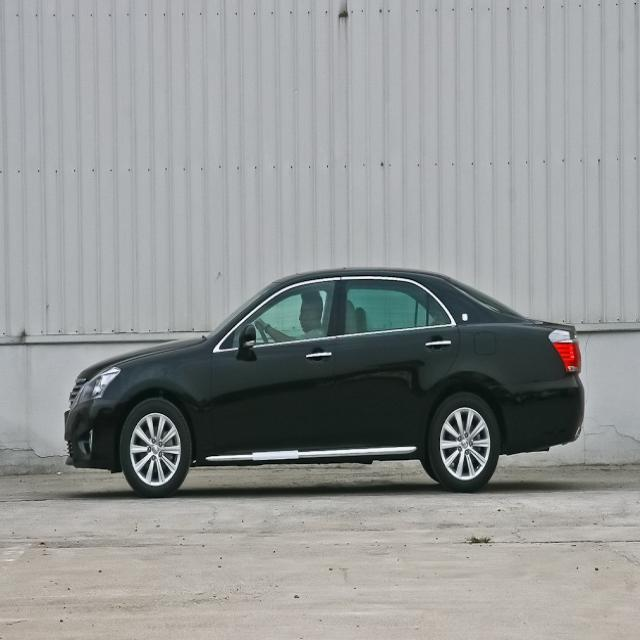back_left_side_light: (548, 327, 582, 374)
door: (339, 274, 458, 451)
front_bumper: (65, 397, 121, 471)
front_left_side_door: (209, 274, 342, 462)
front_left_side_light: (76, 365, 121, 406)
front_left_side_mirror: (239, 322, 257, 357)
rear_bumper: (497, 373, 582, 455)
wheel: (429, 392, 499, 492), (121, 398, 190, 497)
